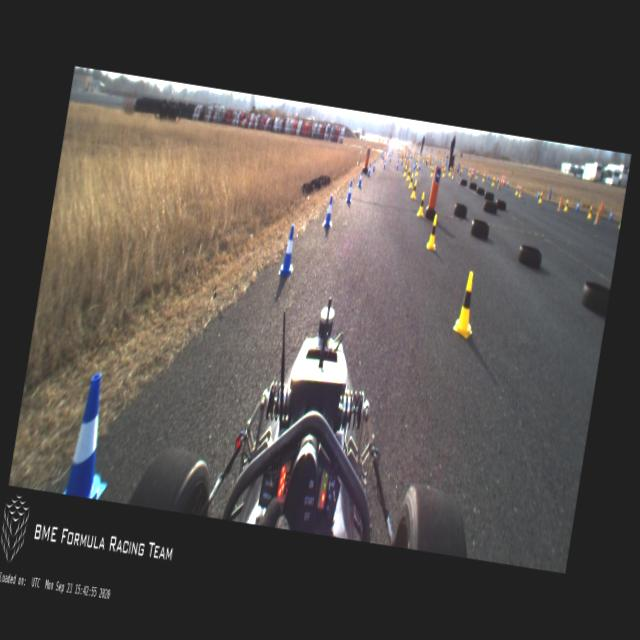blue_cone: (64, 371, 124, 500), (278, 224, 300, 276), (323, 194, 336, 226), (346, 182, 355, 204), (357, 169, 364, 188), (575, 198, 581, 212), (367, 164, 372, 178), (372, 159, 377, 172), (609, 209, 614, 222), (382, 158, 387, 170), (536, 188, 540, 200), (412, 162, 416, 172), (396, 161, 400, 170), (388, 154, 392, 163), (518, 184, 522, 192), (506, 179, 509, 188), (401, 157, 404, 166), (487, 172, 490, 179), (496, 176, 499, 183), (464, 164, 466, 171), (470, 166, 472, 172)
unknown_cone: (556, 195, 564, 212), (594, 206, 600, 225), (519, 183, 524, 199), (497, 175, 502, 190), (451, 165, 456, 180), (548, 187, 552, 200), (600, 201, 604, 214), (502, 174, 506, 186)
yellow_cone: (452, 269, 482, 339), (426, 213, 442, 251), (417, 192, 427, 217), (411, 180, 418, 200), (587, 203, 594, 222), (563, 196, 570, 212), (408, 173, 414, 189), (406, 168, 412, 182), (538, 191, 544, 204), (414, 165, 420, 176), (403, 164, 408, 177), (430, 166, 435, 178), (515, 184, 519, 197), (618, 217, 622, 230), (491, 176, 496, 186), (442, 166, 446, 178), (448, 166, 452, 176), (474, 170, 478, 180), (441, 162, 444, 173), (482, 174, 485, 182), (461, 164, 464, 172), (430, 160, 432, 169), (468, 168, 470, 176)
